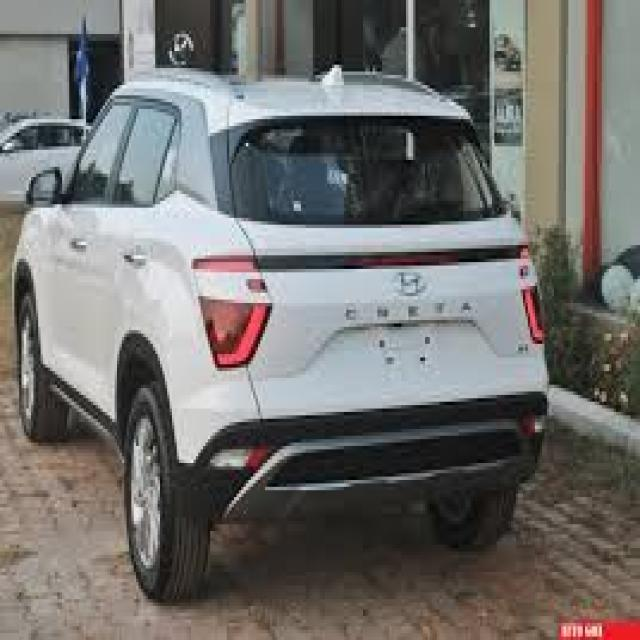SUV: (9, 58, 552, 599)
